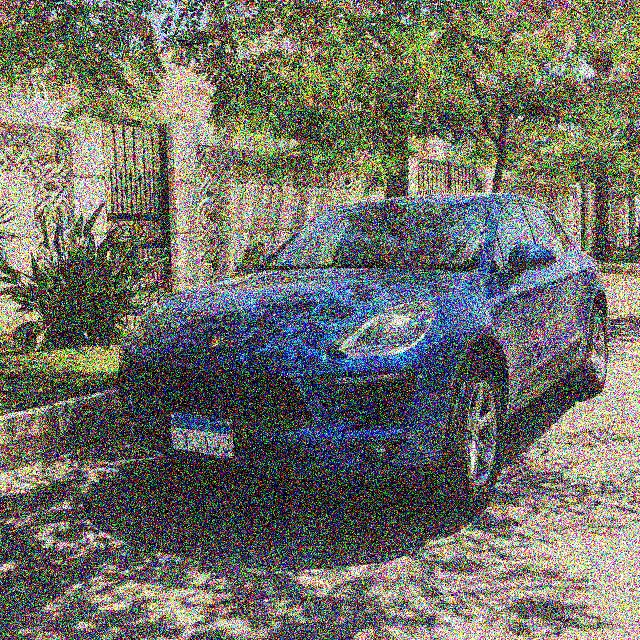License Plate: (167, 412, 233, 460)
